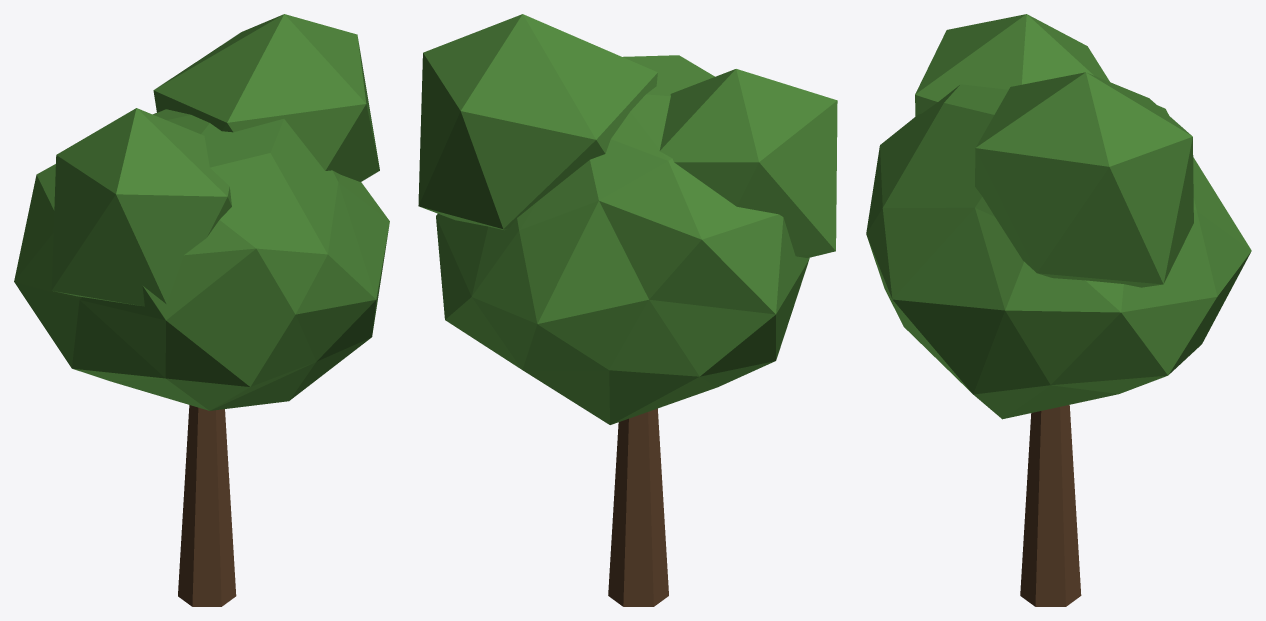
Rendered from Agac_Yuvarlak_2.fbx.
The picture shows the model from 3 angles, left to right: view 1: azimuth 30°, elevation 25°; view 2: azimuth 150°, elevation 25°; view 3: azimuth 270°, elevation 25°; orthographic projection. The views are drawn at different scales.
Visible parts, largest first — view 1: Agac_Yuvarlak_2; view 2: Agac_Yuvarlak_2; view 3: Agac_Yuvarlak_2.
Boxes of the visible parts, x1,y1,x2,y2 form: Agac_Yuvarlak_2: (14, 14, 389, 606); Agac_Yuvarlak_2: (418, 14, 837, 606); Agac_Yuvarlak_2: (866, 14, 1251, 606).
Bounding box in the file's own units: 3.88 × 5.78 × 3.54.
